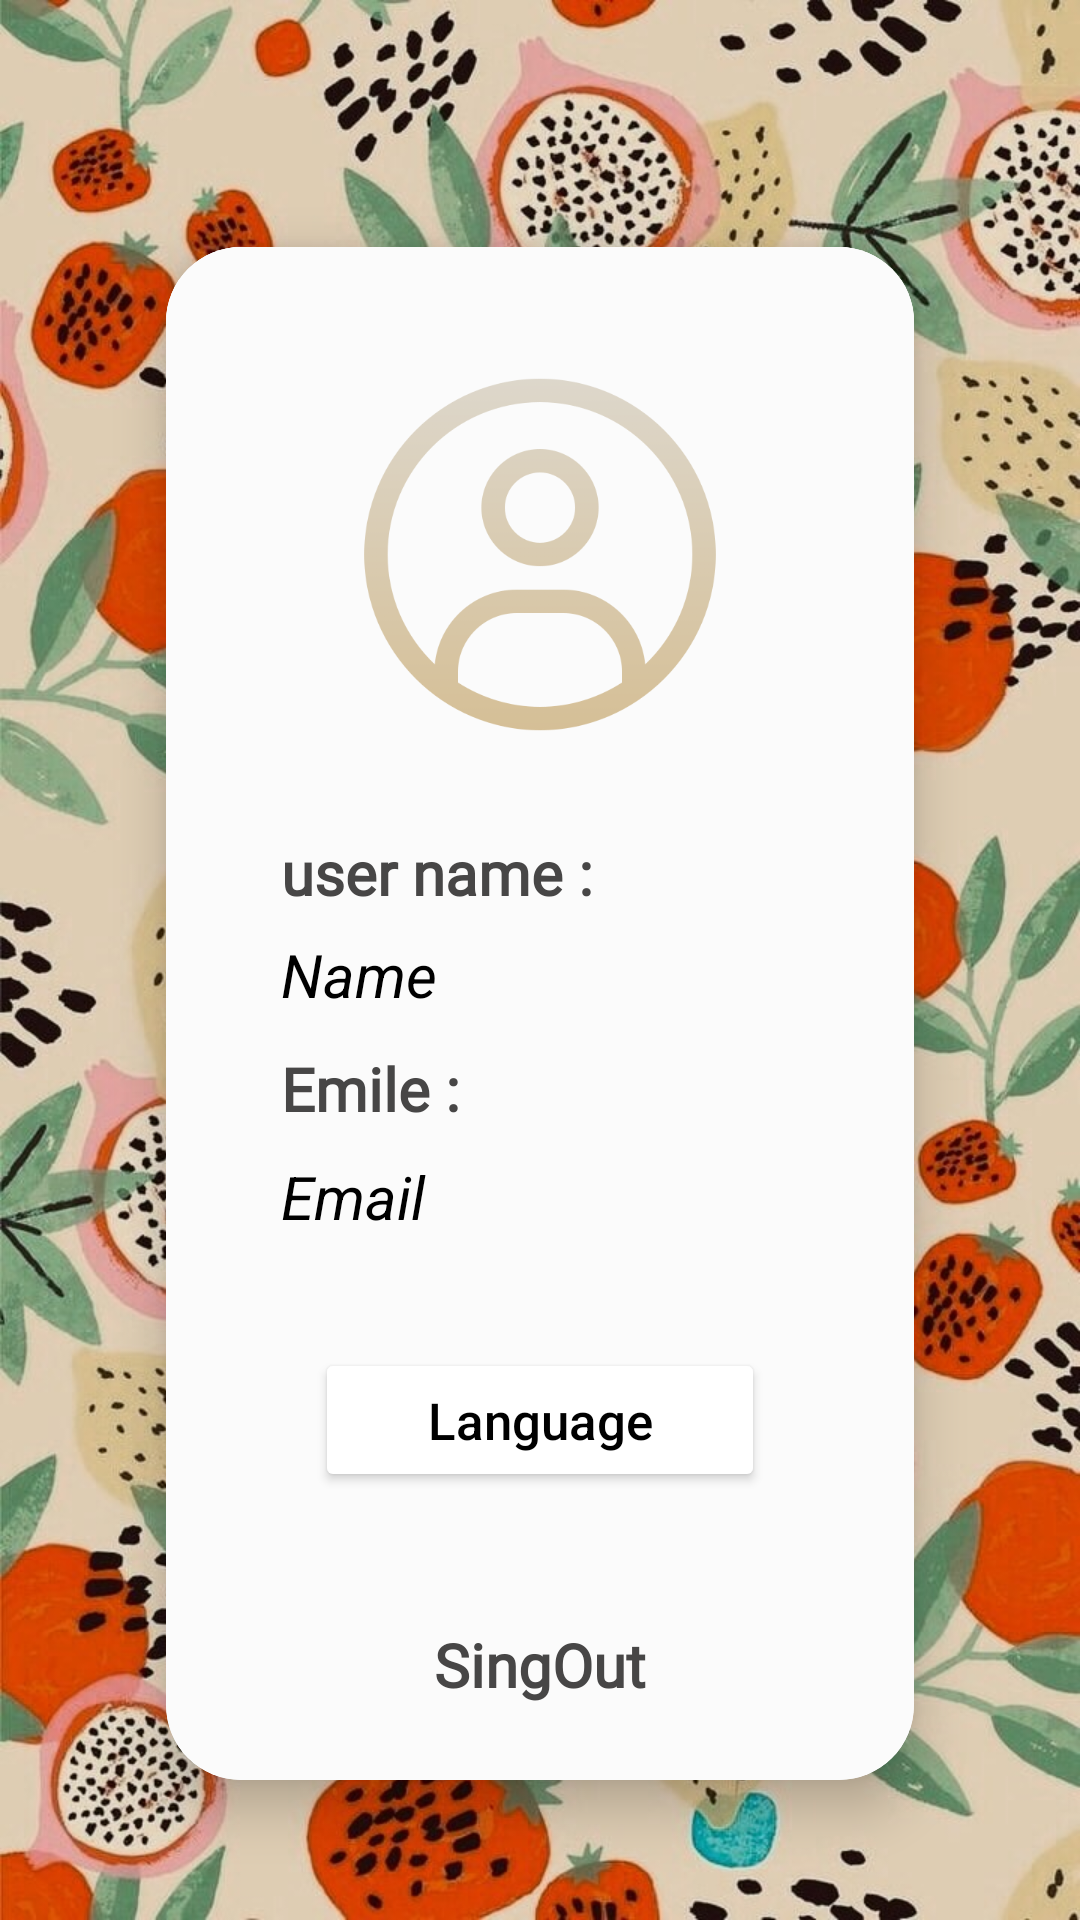

Icons on this 1080 x 1920 Android screen, each with its box as rect(x1, y1, x2, y2):
profile: rect(364, 379, 716, 730)
